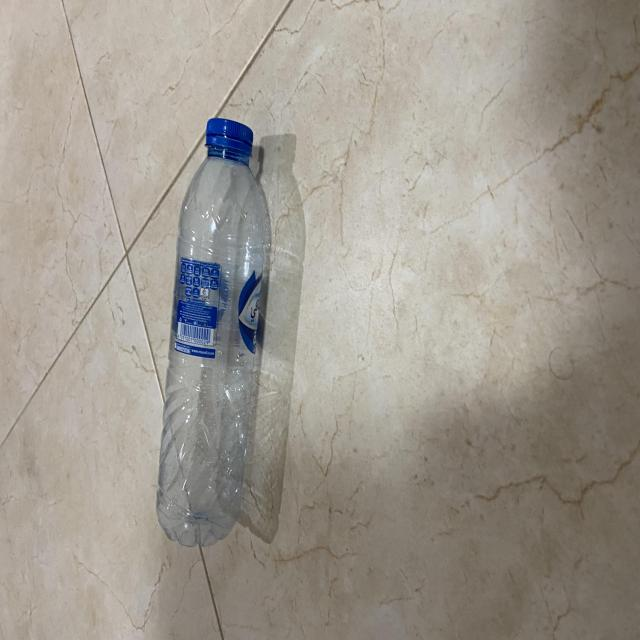bottle: (134, 102, 258, 572)
